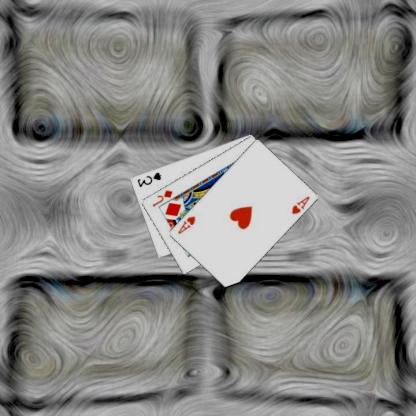3S: (136, 170, 164, 188)
AH: (290, 193, 312, 216), (177, 213, 198, 235)
JD: (151, 187, 175, 208)
